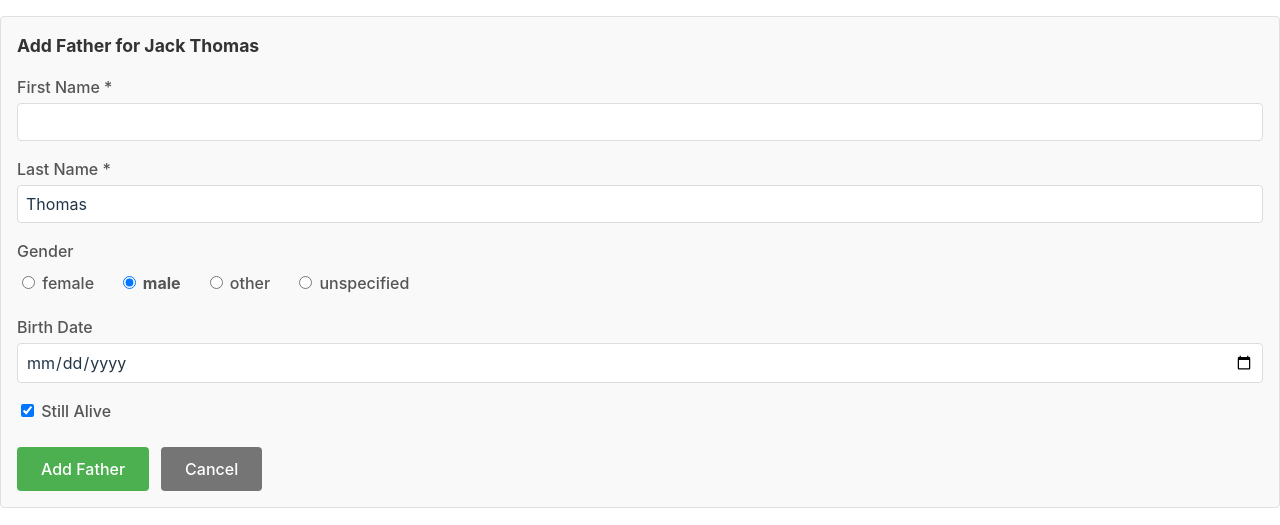
Test: QuickAddParent - Acceptance Tests (Issue #5) › Form Field Behavior › should allow user to change gender even though it is pre-filled
Expected: the radio button named "parent-gender" is checked, [123,276,136,289]
User changes to other
Click the radio button named "parent-gender": (216, 283) [210,276,223,289]
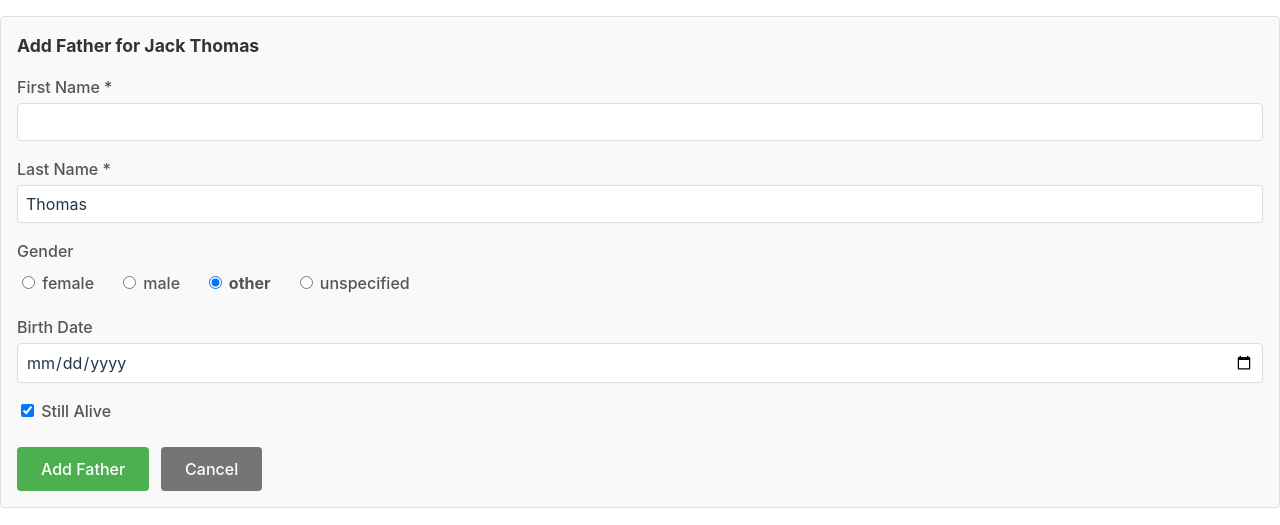
Expected: the radio button named "parent-gender" is checked, [209,276,222,289]
Expected: the radio button named "parent-gender" is not checked, [123,276,136,289]
